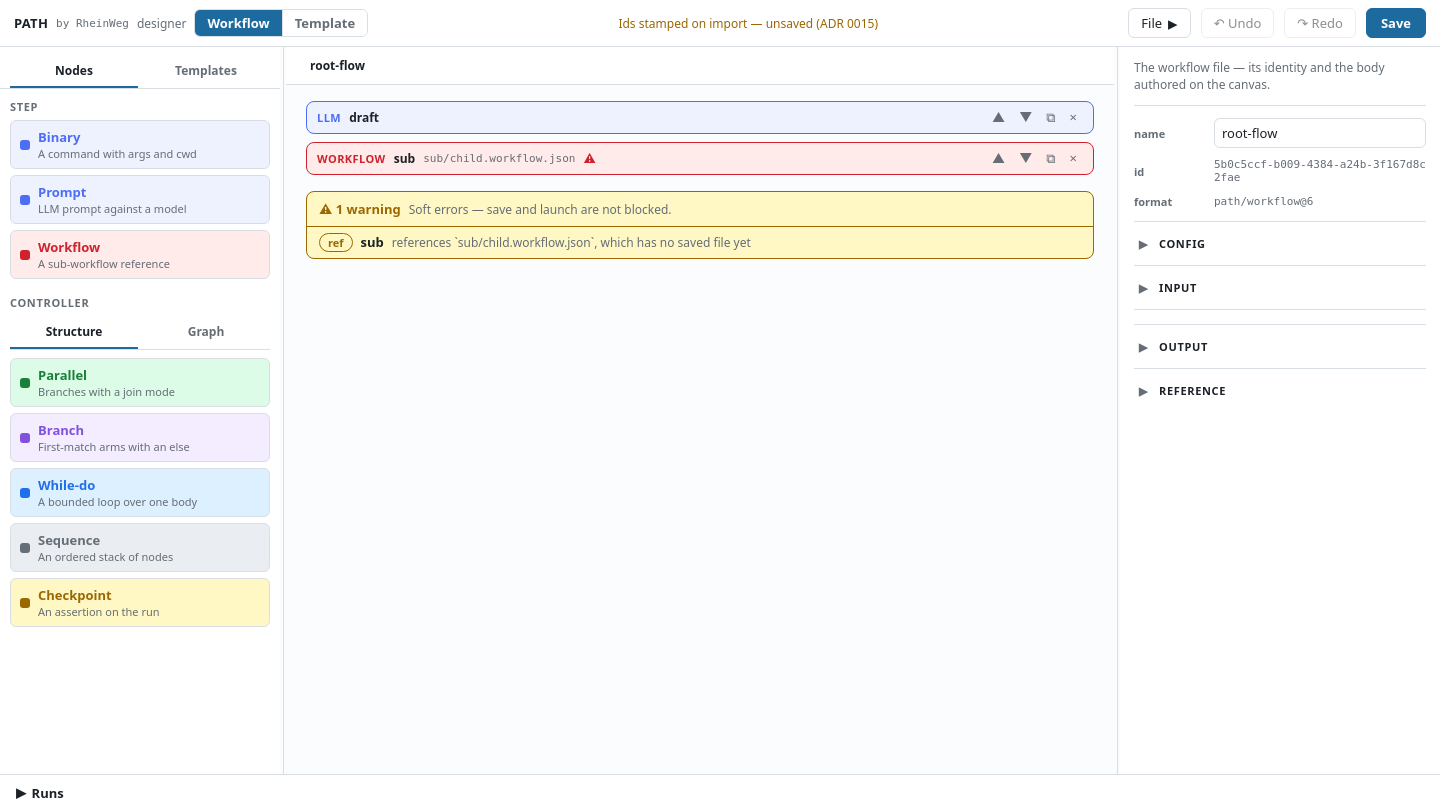
Designer save through the write route › surfaces a 412 as a stale-write conflict the author must resolve, keeping the buffer
Check: the text "draft" is shown, box [349, 109, 379, 126]
What coordinates should you click on to do the following:
click the button "Save"
I would click on:
 (1396, 23)
Its box is [1366, 8, 1426, 38].
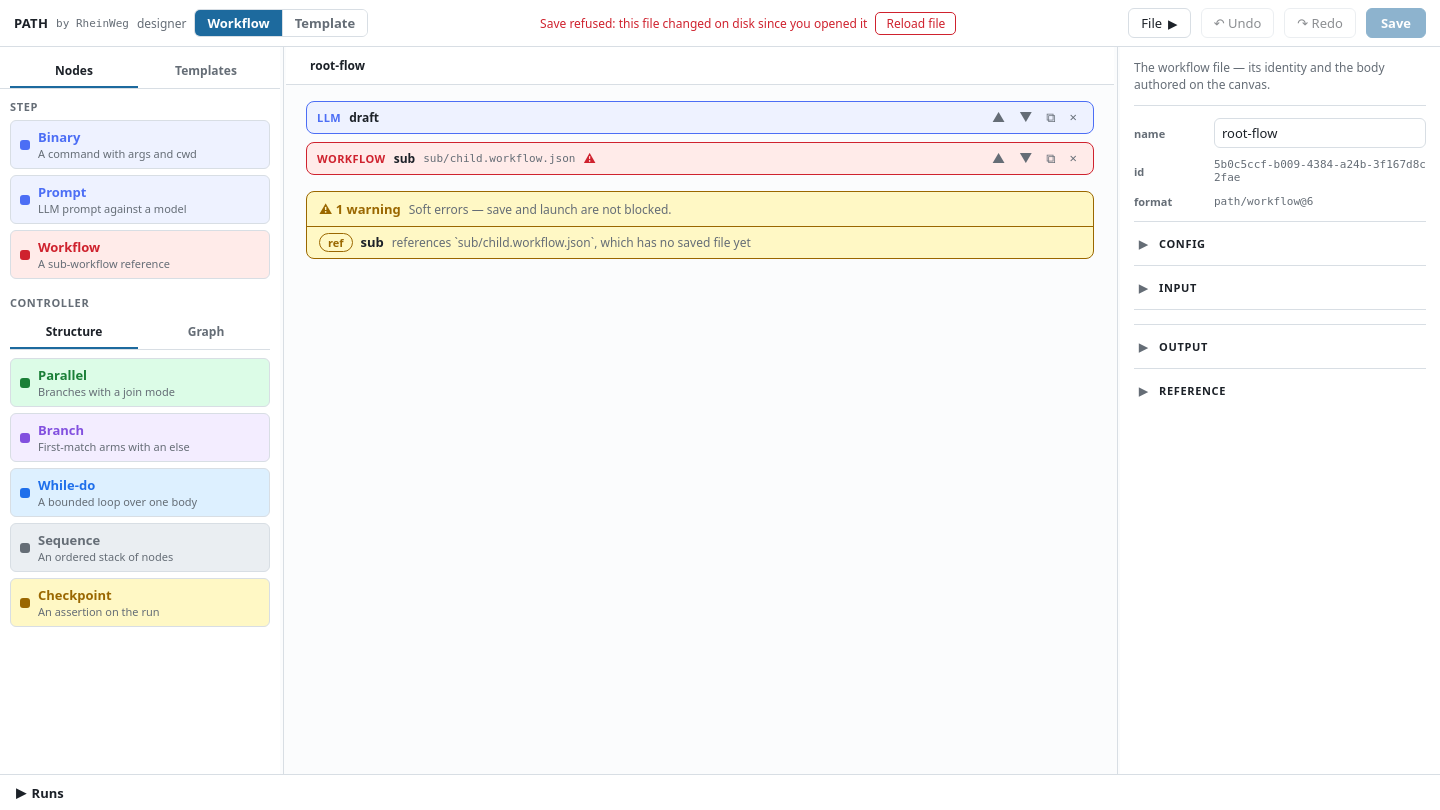
Check: the text "draft" is shown, box [349, 109, 379, 126]
Check: the text "changed on disk since you opened it" is shown, box [540, 14, 868, 32]
Check: the button "Save" is disabled, box [1366, 8, 1426, 38]
